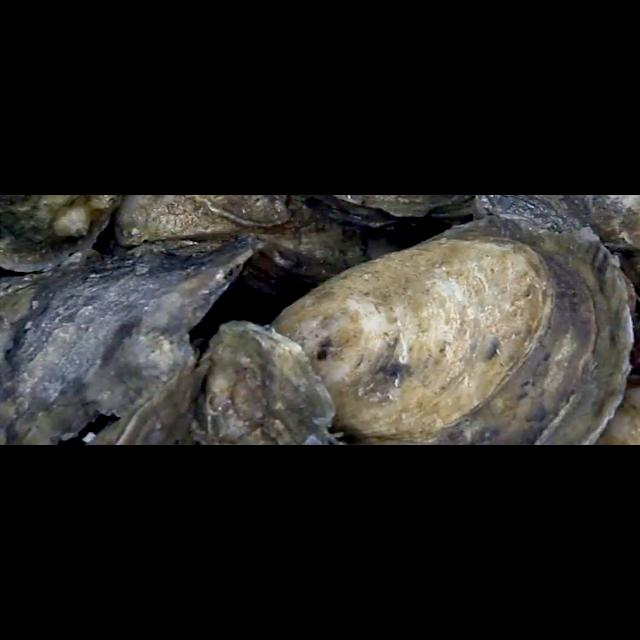Oyster-Closed: (268, 216, 634, 445), (0, 235, 255, 445), (98, 195, 446, 298), (87, 321, 334, 445), (0, 195, 121, 274), (474, 195, 639, 252), (186, 195, 291, 227), (595, 376, 639, 445)
Oyster-Open: (302, 195, 476, 228)
